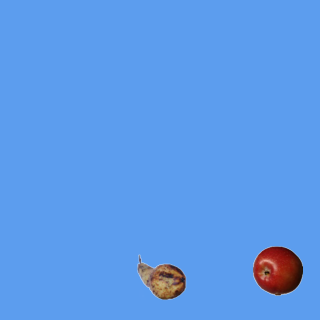Apple Braeburn: (252, 245, 302, 295)
Pear Abate: (136, 252, 186, 302)
